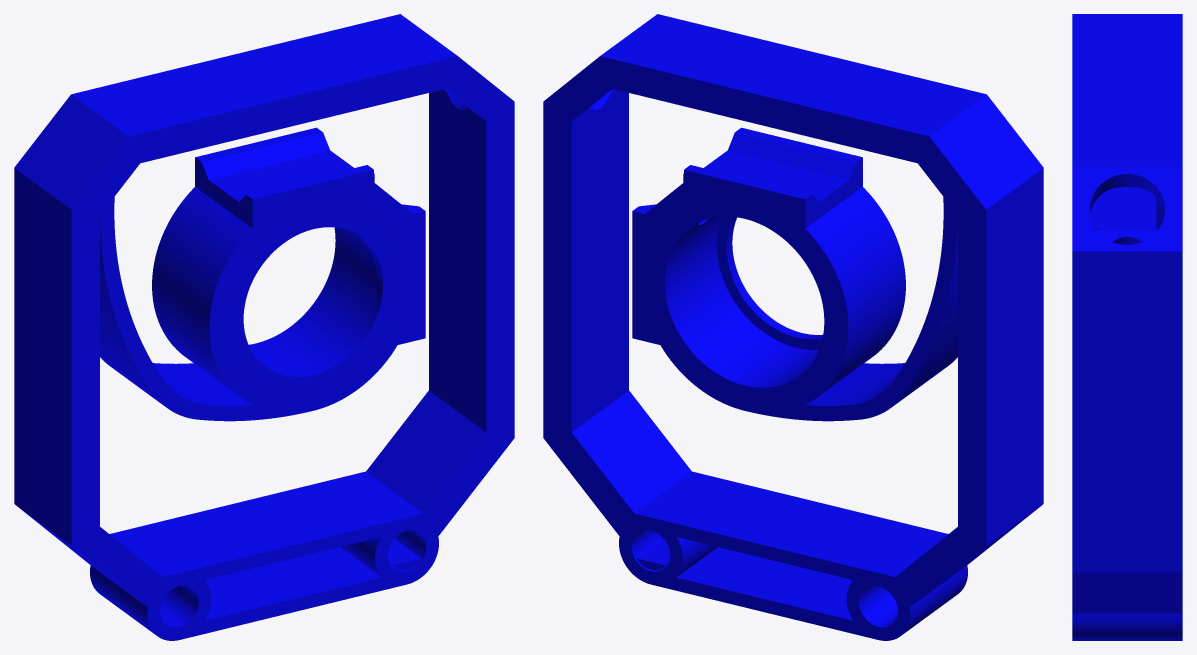
The model's file is V5_Half Inch Lens Mount (V5).obj.
The picture shows the model from 3 angles, left to right: view 1: azimuth 30°, elevation 25°; view 2: azimuth 150°, elevation 25°; view 3: azimuth 270°, elevation 25°; orthographic projection. The views are drawn at different scales.
Parts seen in each view (by area): view 1: Solid1:17; view 2: Solid1:17; view 3: Solid1:17.
Part boxes in pixels (x1,y1,x2,y2): Solid1:17: (14,14,514,640); Solid1:17: (543,14,1043,640); Solid1:17: (1072,14,1182,640).
Size of the model in its own units: 38.94 by 43.33 by 8.75.
